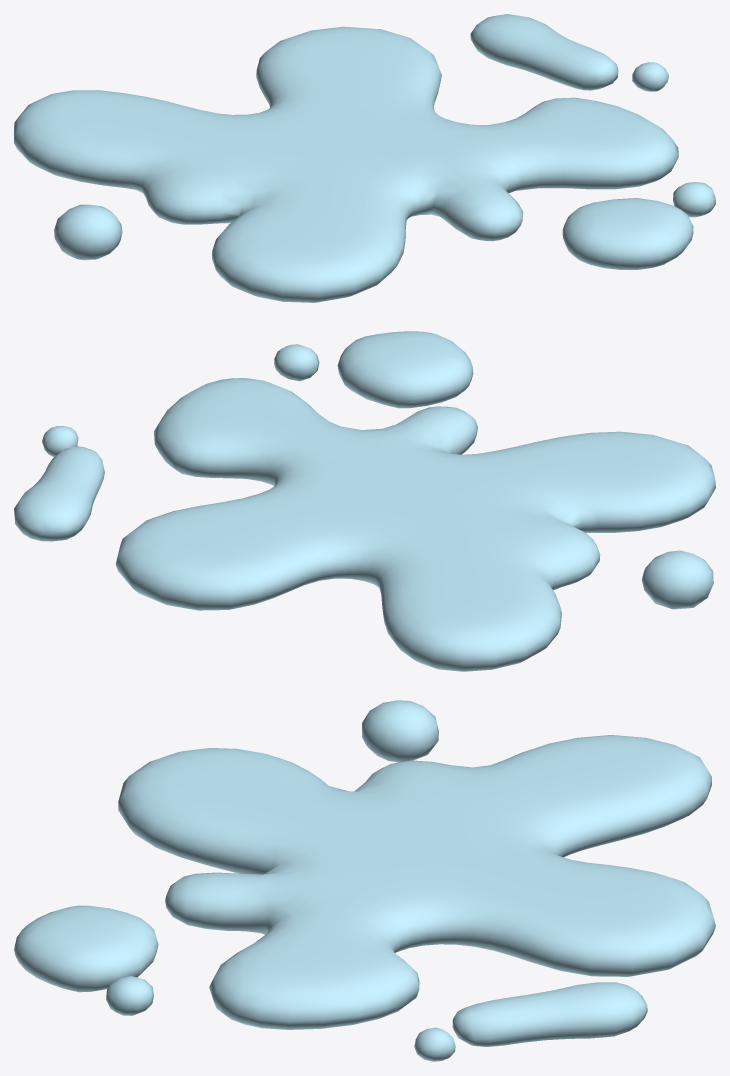
Rendered from detergent_trap.fbx.
The picture shows the model from 3 angles, top to bottom: view 1: azimuth 30°, elevation 25°; view 2: azimuth 150°, elevation 25°; view 3: azimuth 270°, elevation 25°; orthographic projection. The views are drawn at different scales.
Parts seen in each view (by area): view 1: PM3D_Plane3D_1; view 2: PM3D_Plane3D_1; view 3: PM3D_Plane3D_1.
Part boxes in pixels (bbox=[...]): PM3D_Plane3D_1: bbox=[14, 14, 715, 302]; PM3D_Plane3D_1: bbox=[14, 331, 715, 671]; PM3D_Plane3D_1: bbox=[14, 700, 715, 1061].
Bounding box in the file's own units: 20.31 × 1.51 × 17.6.
